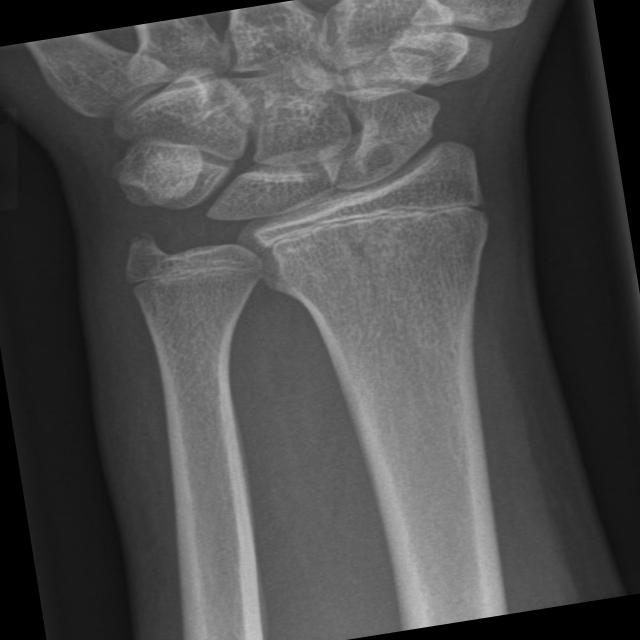fracture: (223, 173, 514, 278), (109, 232, 278, 318)
